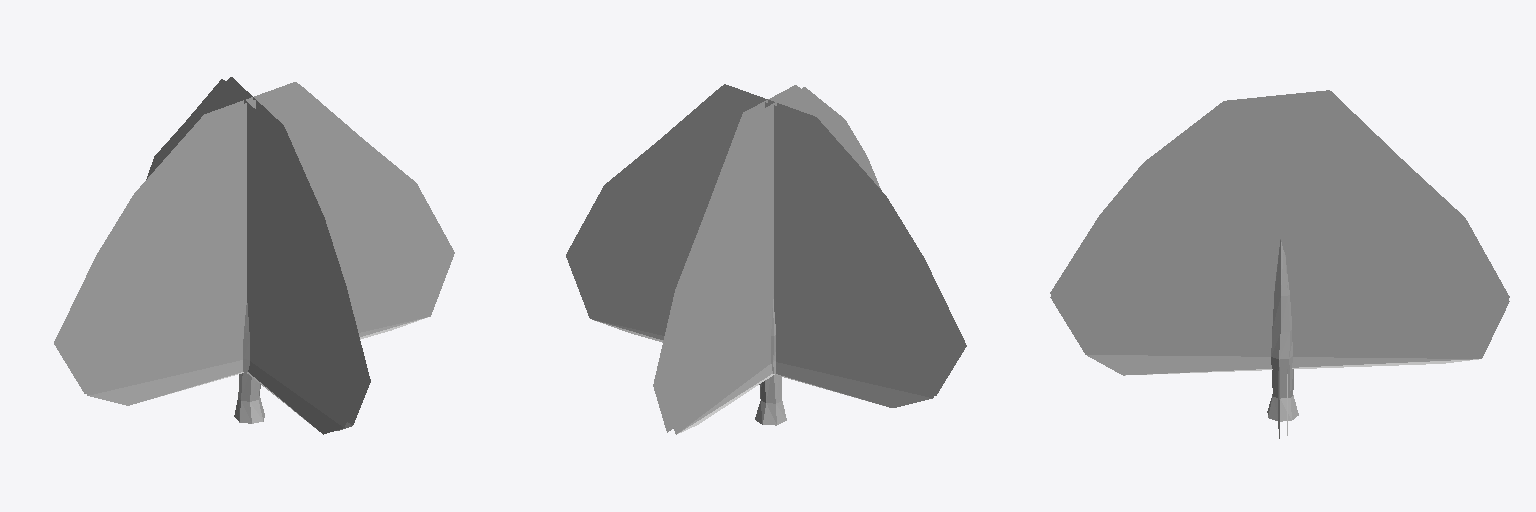
Rendered from tree_002.obj.
3 renders of one model, left to right at view 1: azimuth 30°, elevation 25°; view 2: azimuth 150°, elevation 25°; view 3: azimuth 270°, elevation 25°, orthographic.
Parts seen in each view (by area): view 1: tree.002; view 2: tree.002; view 3: tree.002.
Part boxes in pixels (x1,y1,x2,y2): tree.002: (54, 77, 454, 434); tree.002: (566, 84, 966, 434); tree.002: (1050, 90, 1509, 438).
Size of the model in its own units: 9.84 by 7.63 by 9.84.